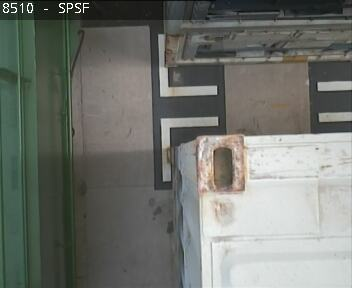groundmarker_1: (160, 28, 217, 181)
